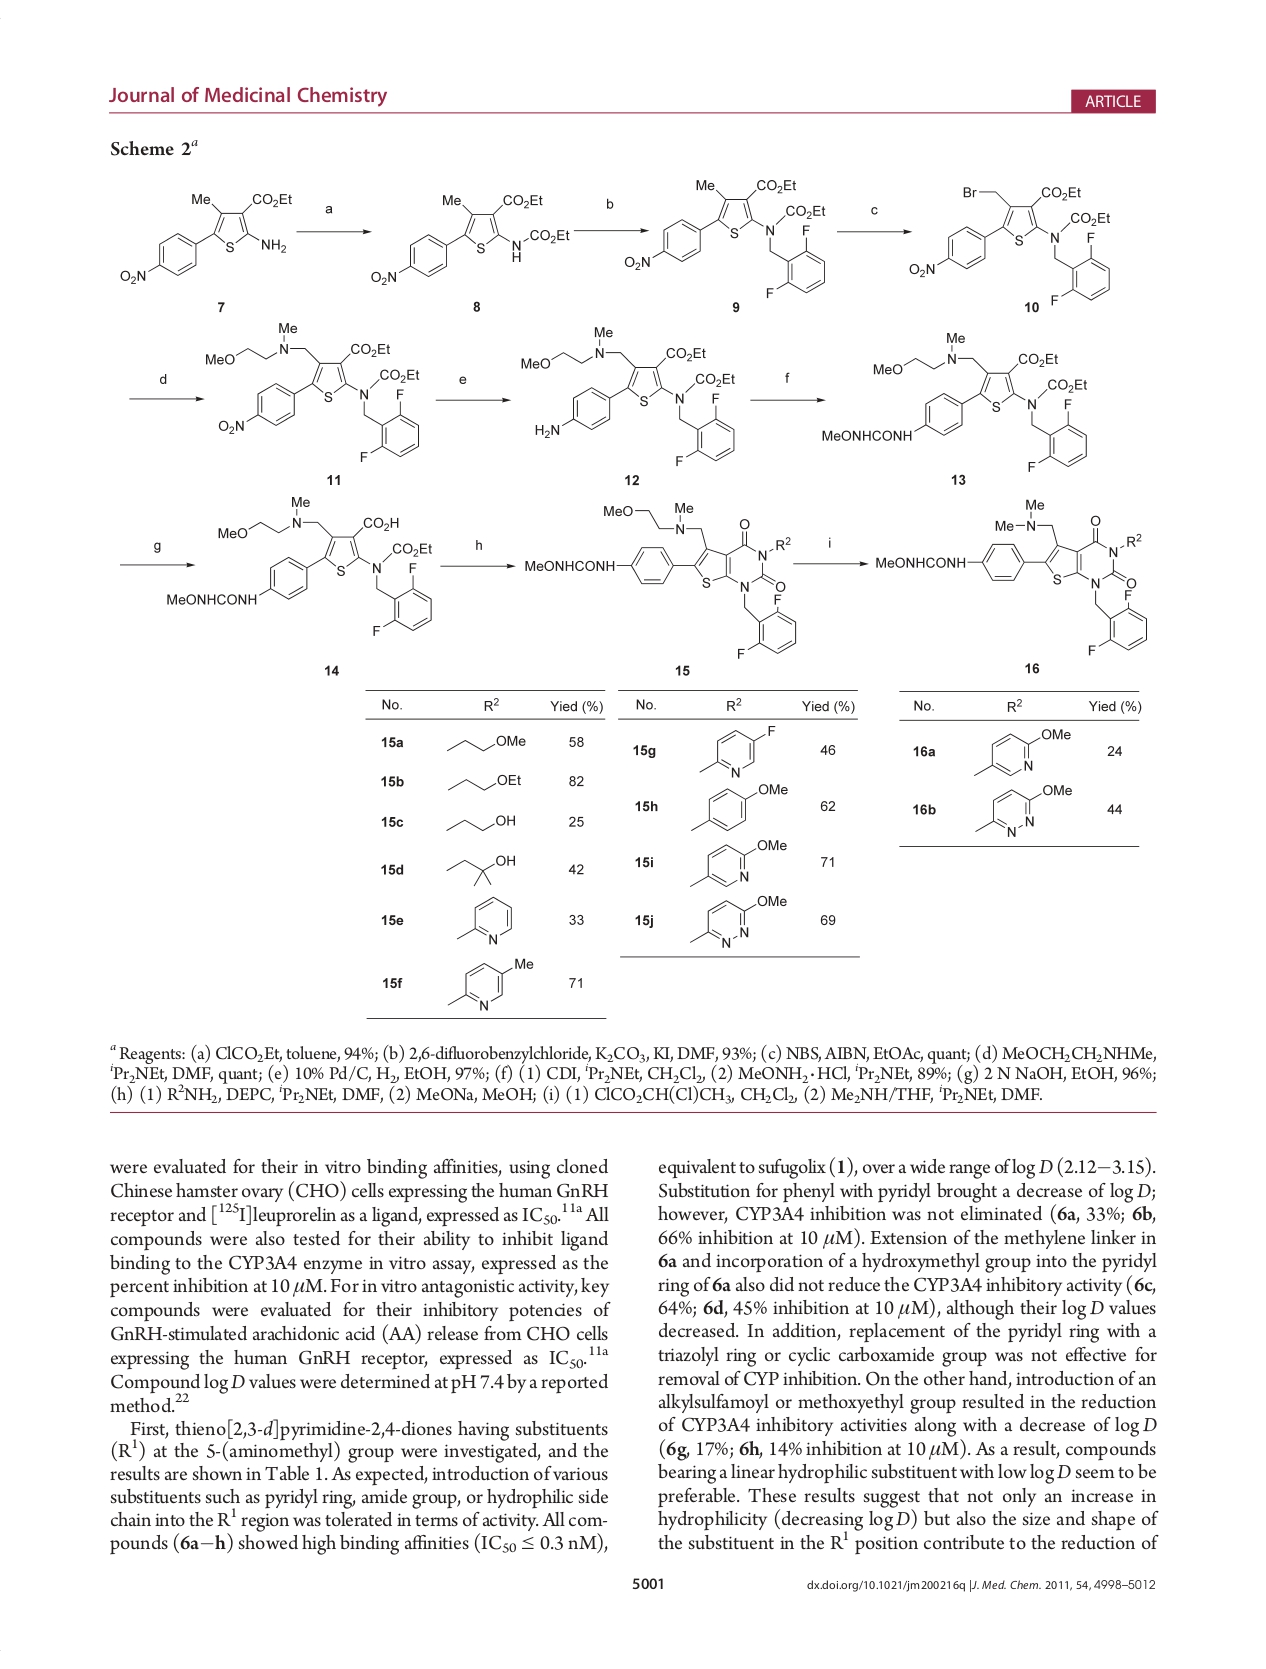exist_molecular: (874, 499, 1153, 658), (521, 500, 801, 658), (165, 493, 439, 638), (818, 328, 1090, 473), (517, 323, 739, 468), (203, 322, 422, 465), (622, 176, 828, 302), (910, 184, 1114, 306), (368, 190, 574, 289), (116, 188, 297, 287), (969, 782, 1073, 839), (685, 836, 789, 890), (688, 781, 789, 834), (688, 895, 786, 948), (973, 726, 1072, 778), (445, 956, 535, 1013), (696, 722, 775, 778), (453, 895, 515, 950), (442, 850, 516, 888), (442, 809, 519, 836), (445, 727, 528, 753), (444, 771, 527, 794)
